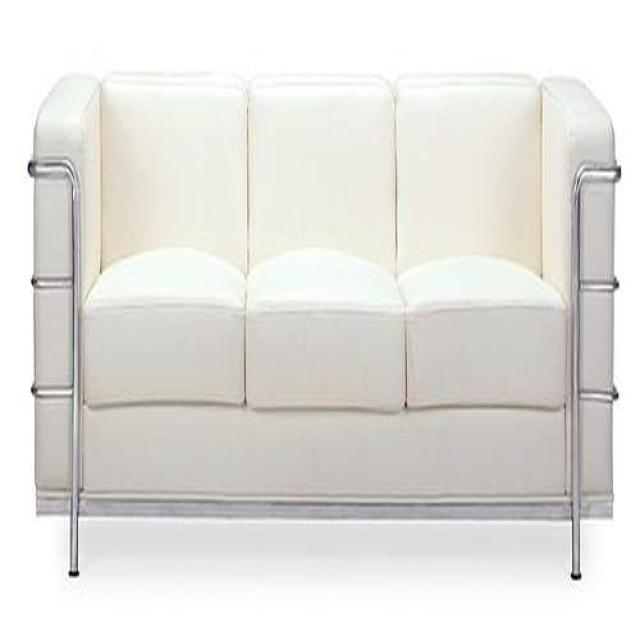sofa: (26, 70, 622, 585)
